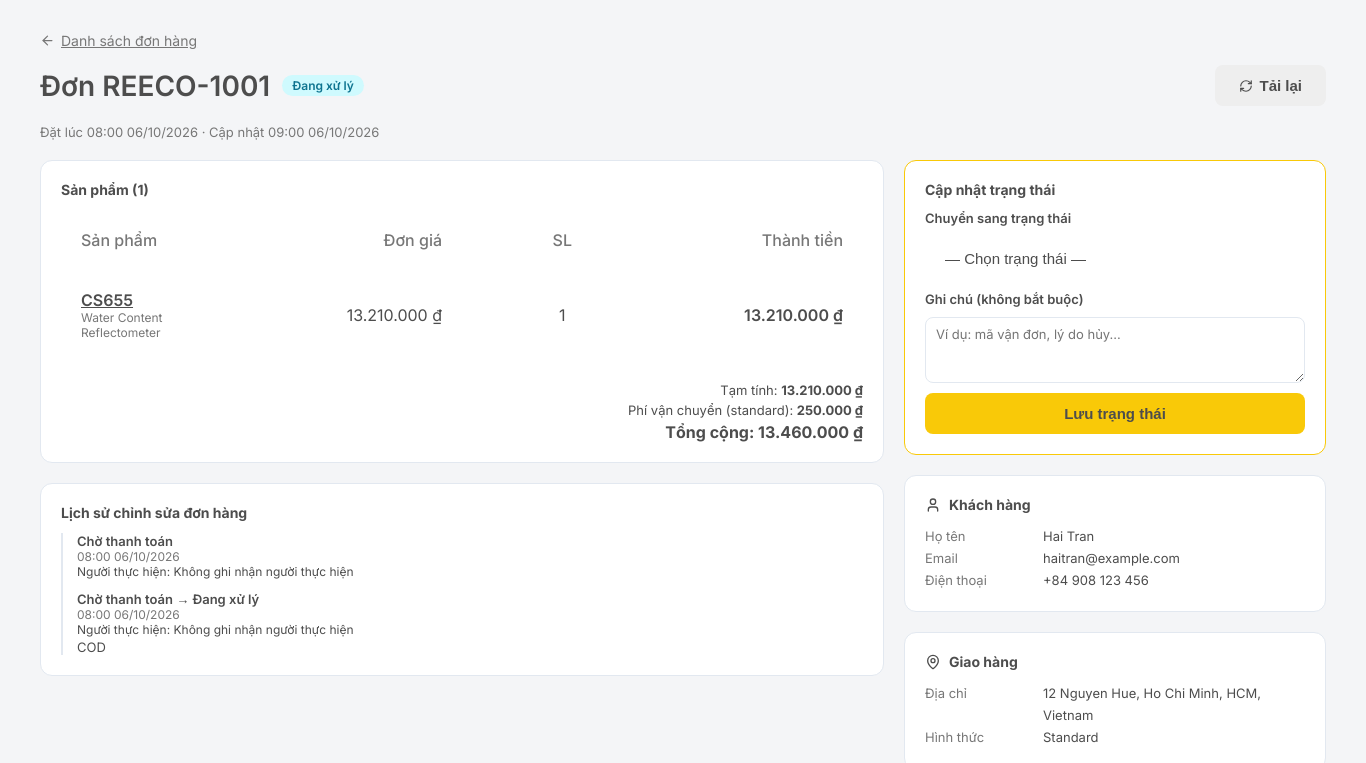
Test: OrderDetailView › saves the status with the note and reloads the order
This screenshot has width=1366, height=763.
Select "Đã chuyển hãng" in the dropdown labelled "Chuyển sang trạng thái". click: [1115, 258]
box: [925, 236, 1305, 281]
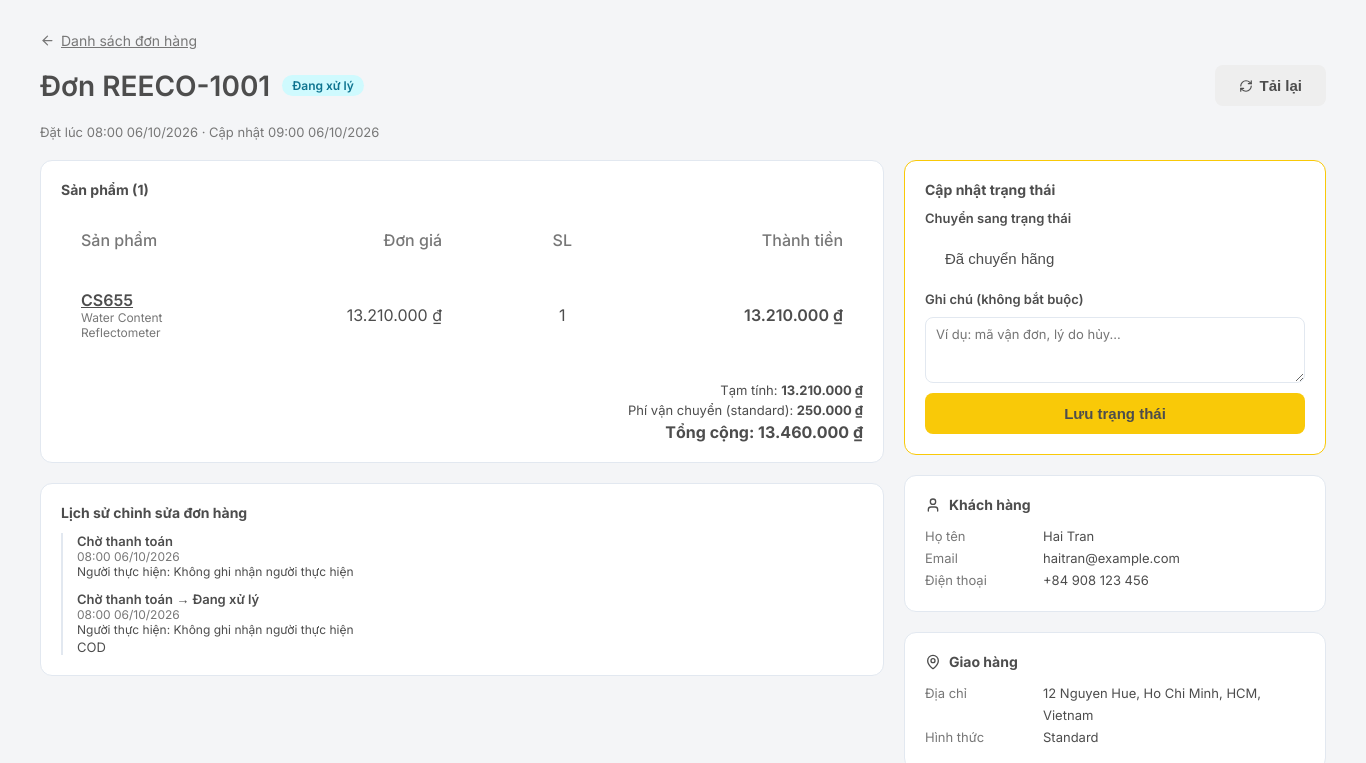
Type "PO-77" into the text box labelled "Ghi chú (không bắt buộc)". click: [1115, 350]
box: [925, 317, 1305, 383]
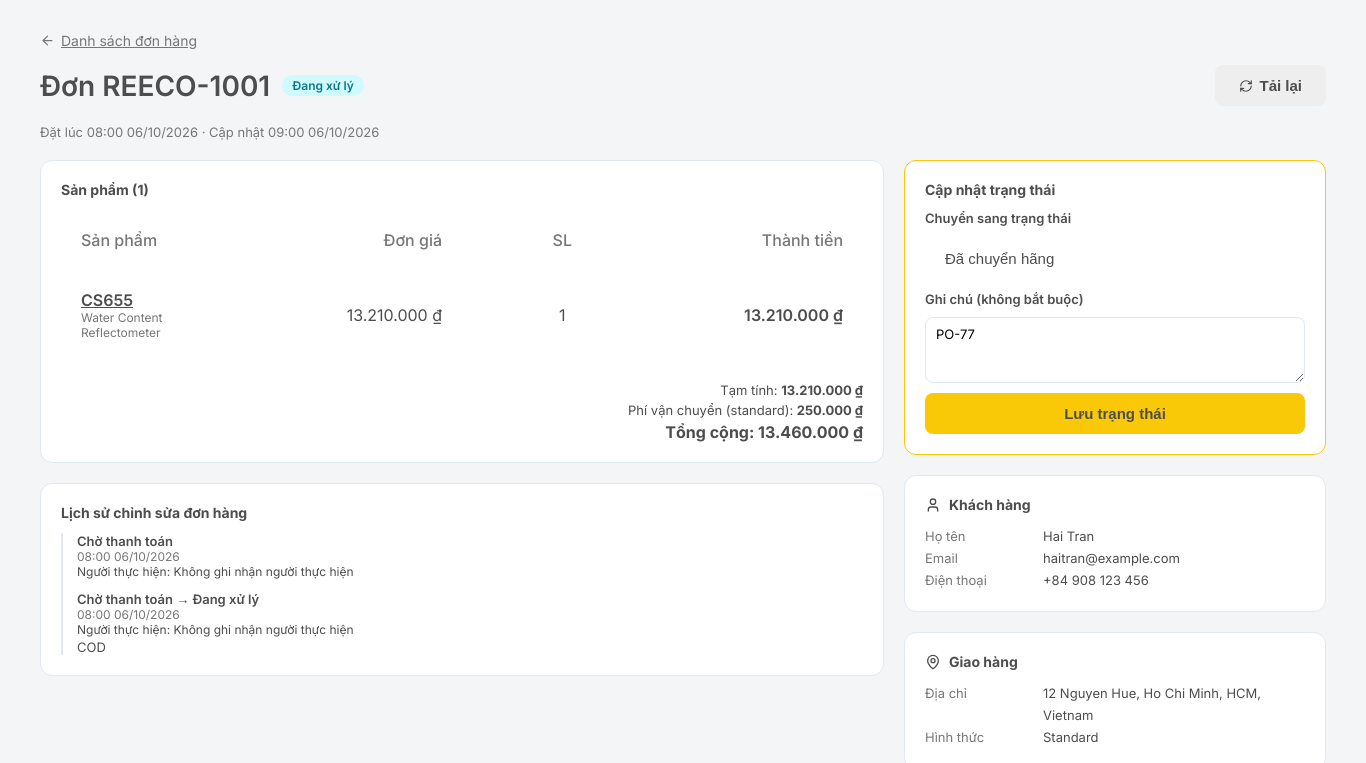
Click the button "Lưu trạng thái". click: [1115, 414]
box: [925, 393, 1305, 434]
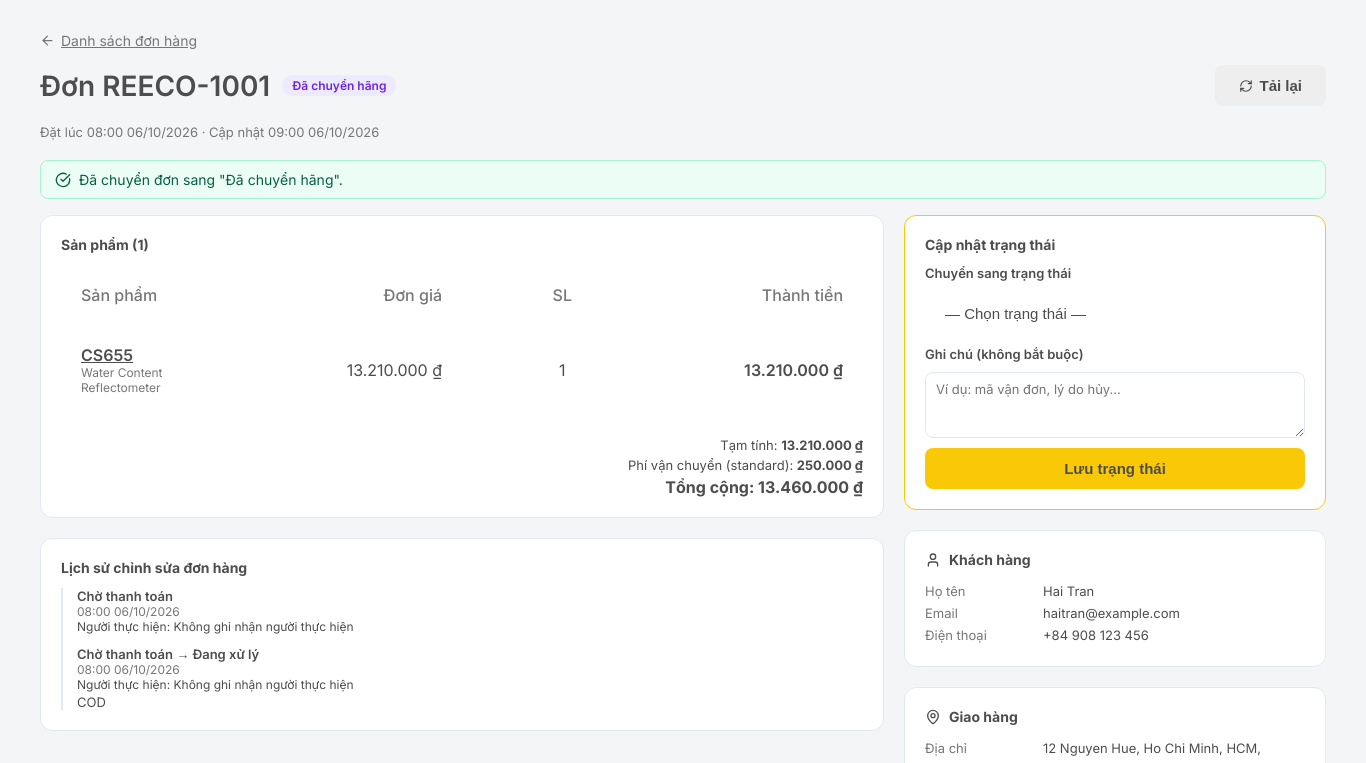
Expected: the text "Đã chuyển đơn sang \"Đã chuyển hãng\"." is shown, [40, 160, 1326, 199]
